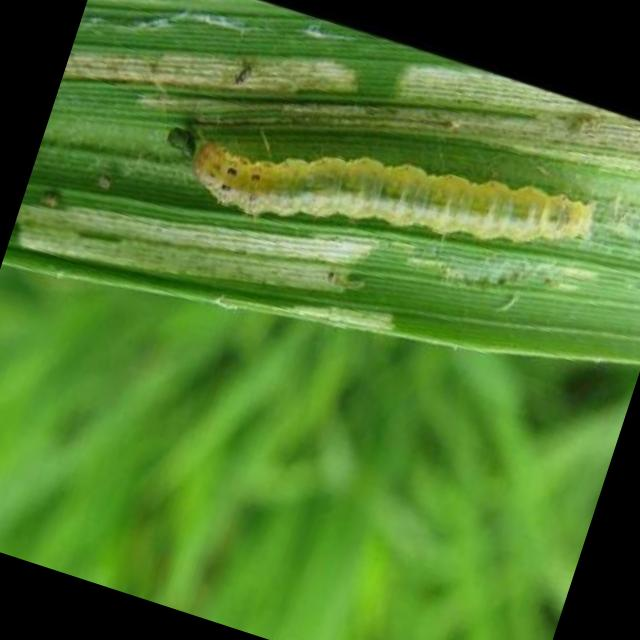leaf-folder: (140, 53, 604, 340)
